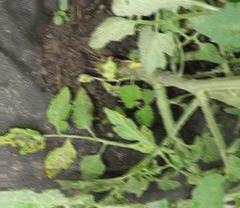Tomato Septoria leaf spot: (39, 135, 77, 181), (1, 122, 46, 154)
